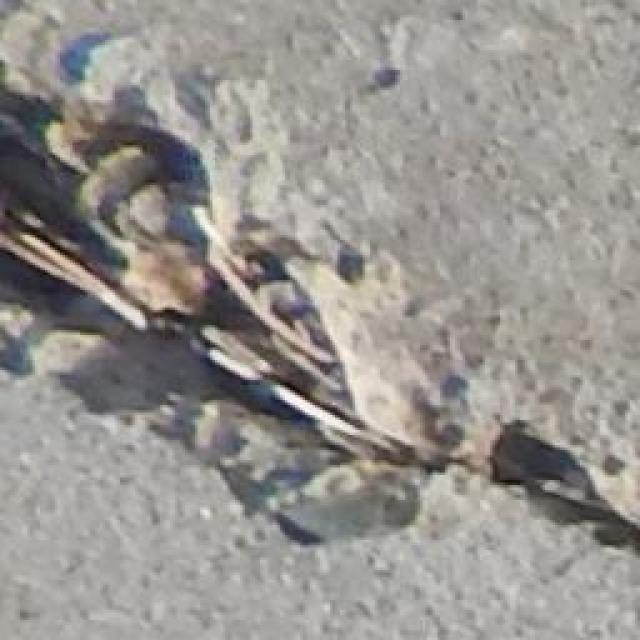concrete-crack: (0, 47, 640, 566)
